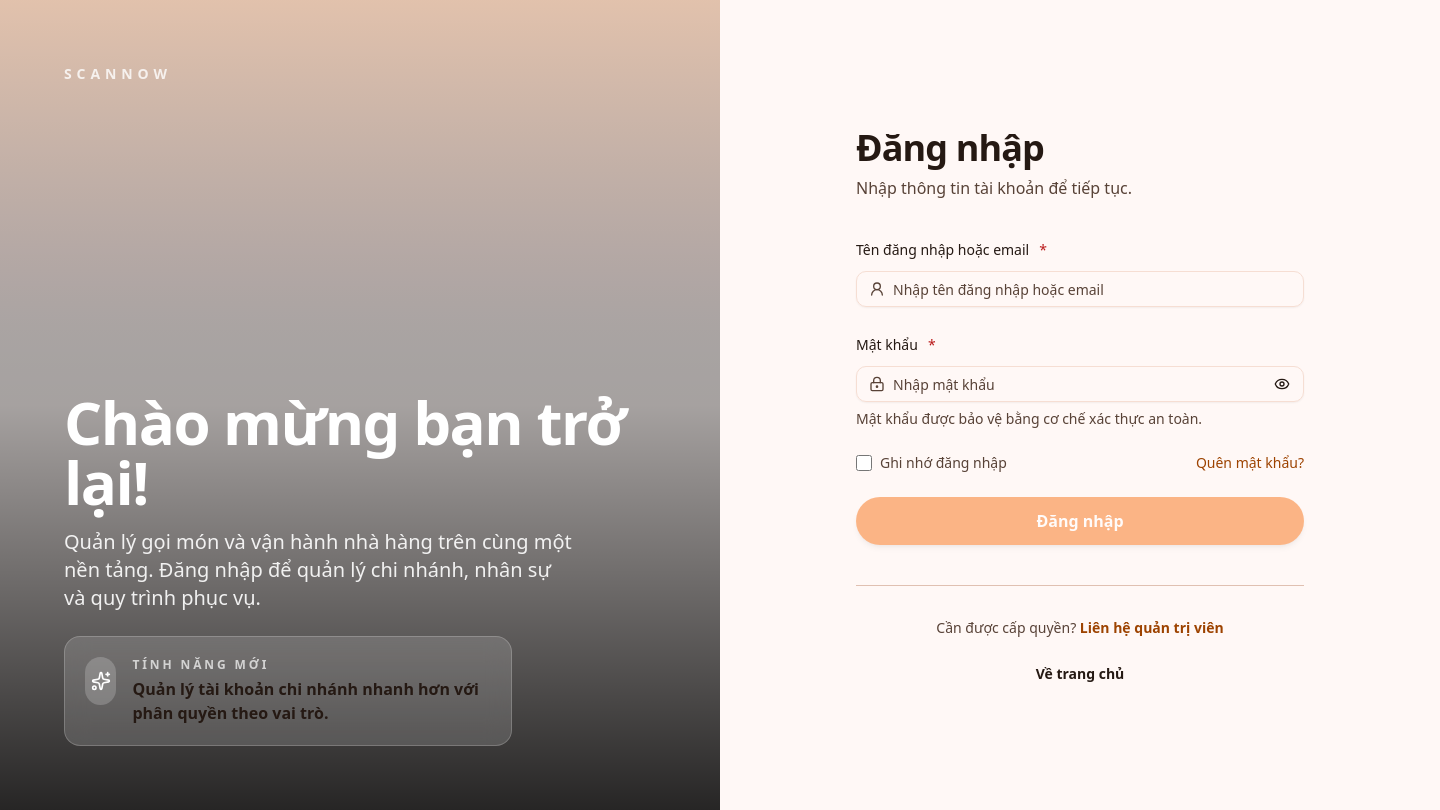
it: LoginForm › shows only the Vietnamese mapped error
This screenshot has width=1440, height=810.
In the field labelled "Tên đăng nhập hoặc email *": (1094, 289) [885,265,1303,313], type "owner"
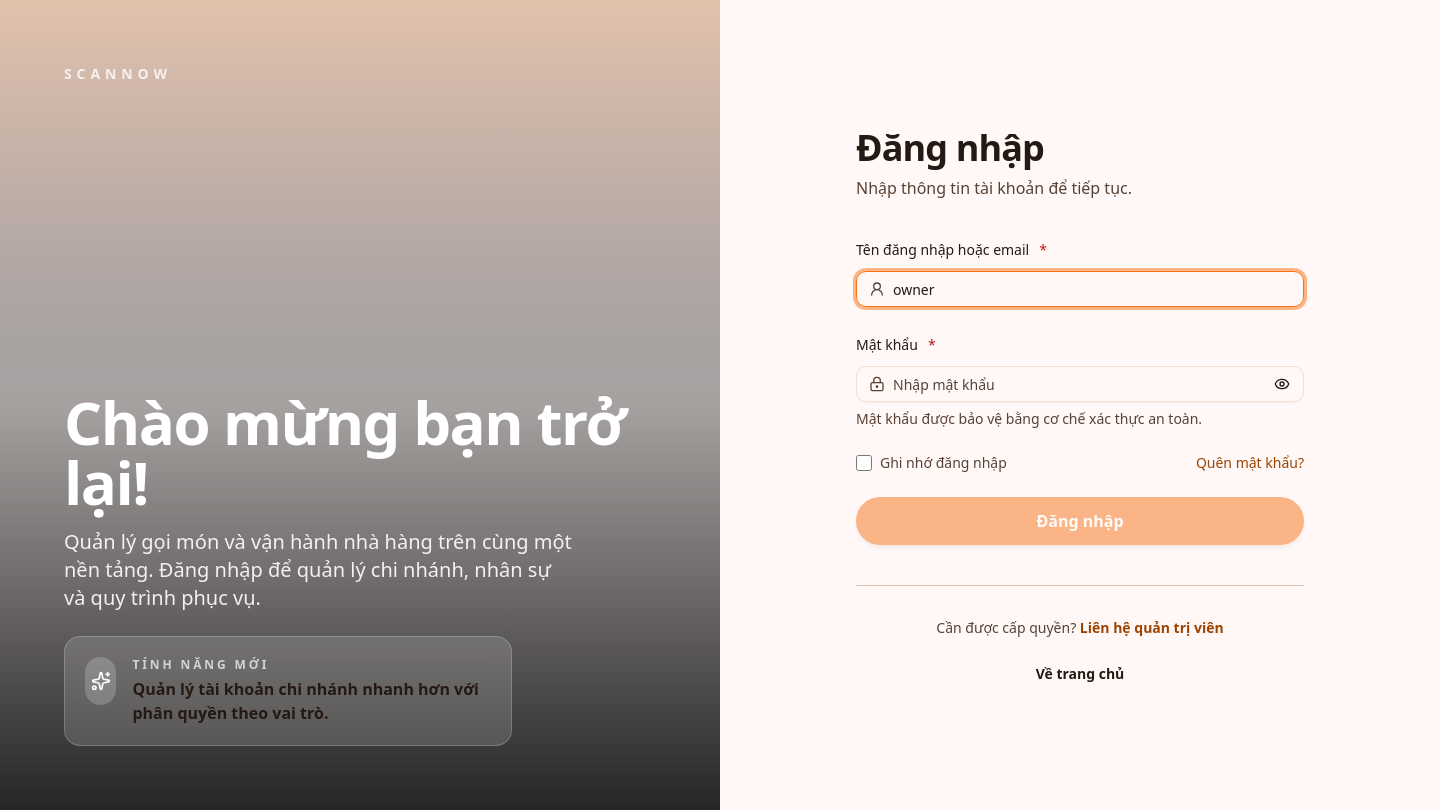
In the password field labelled "Mật khẩu *": (1076, 384) [885,360,1266,408], type "wrong"
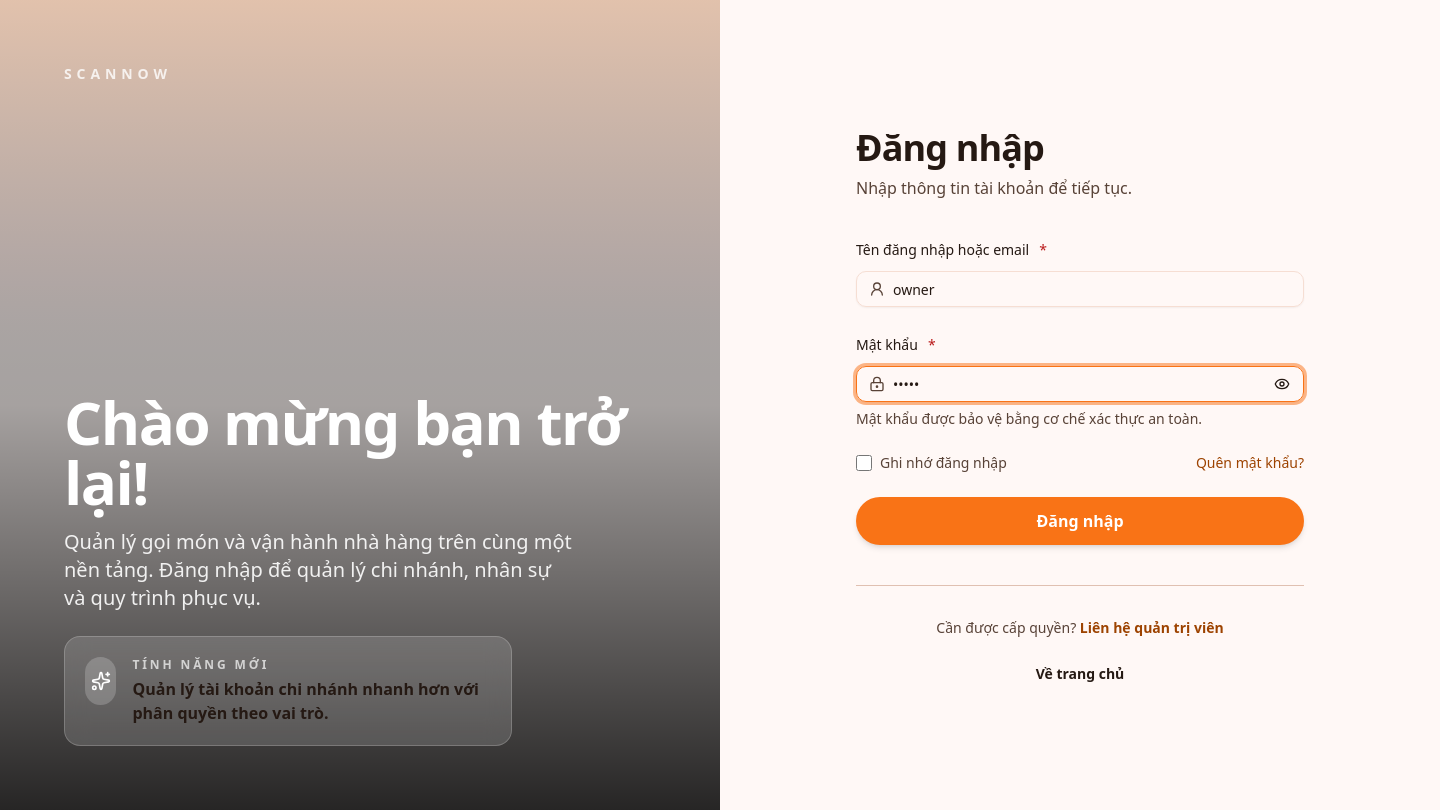
Click the button "Đăng nhập": (1080, 521) [856,497,1304,545]
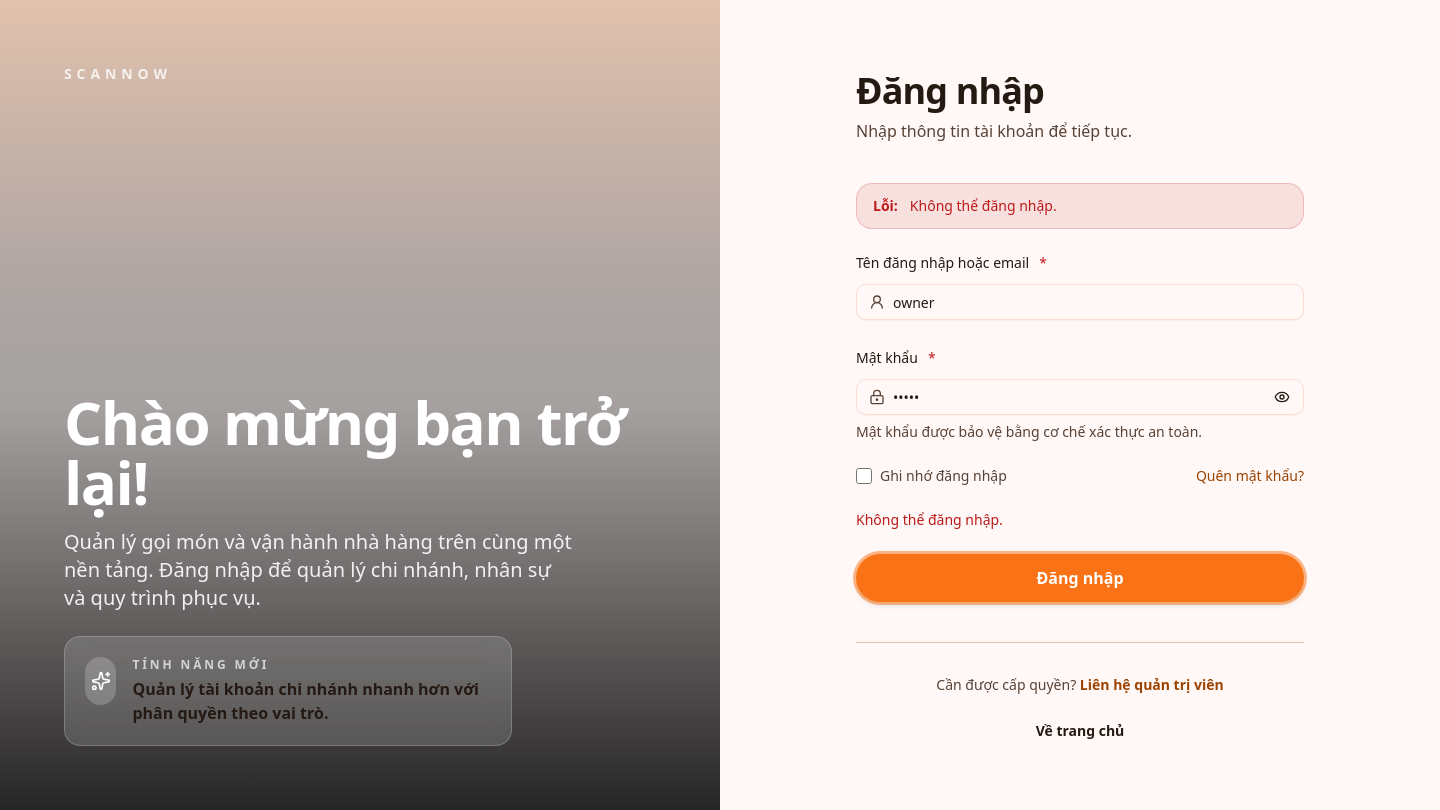
expect the text "Không thể đăng nhập." is shown 2 times: met, box [910,196,1057,216]; [856,510,1003,529]
